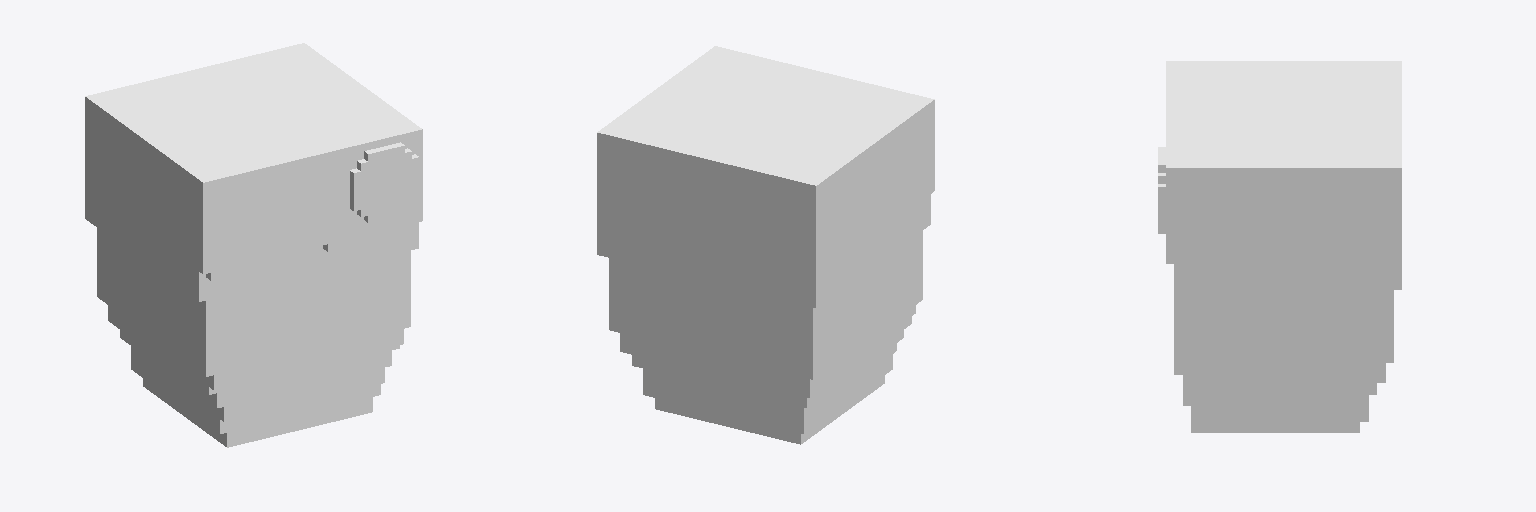
File: GuardFaceless_Chest.obj
3 renders of one model, left to right at view 1: azimuth 30°, elevation 25°; view 2: azimuth 150°, elevation 25°; view 3: azimuth 270°, elevation 25°, orthographic.
Size of the model in its own units: 30 by 37 by 29.